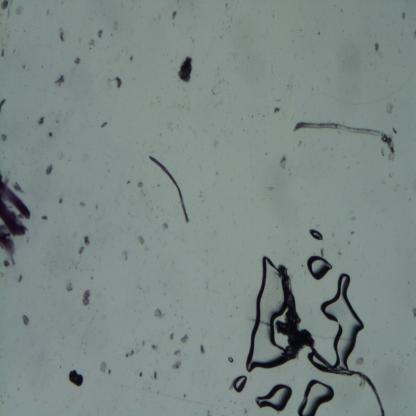Air bubble: (241, 256, 289, 368), (318, 271, 371, 369), (300, 378, 334, 414), (254, 382, 294, 411), (307, 255, 333, 279), (308, 226, 326, 244), (233, 374, 247, 392), (228, 356, 235, 362)
Background material: (176, 56, 193, 83), (68, 365, 86, 388), (209, 76, 226, 96), (82, 288, 93, 308), (13, 5, 29, 18), (20, 309, 31, 326), (52, 72, 65, 86), (64, 278, 76, 292), (57, 27, 66, 45), (406, 304, 416, 320), (136, 178, 144, 198), (0, 0, 12, 13), (172, 345, 184, 358), (44, 163, 54, 178), (86, 36, 96, 51), (280, 151, 288, 169), (171, 358, 183, 370), (136, 237, 147, 250), (114, 76, 124, 90), (196, 342, 206, 356), (154, 309, 166, 320), (384, 100, 394, 113), (180, 332, 190, 344), (169, 9, 178, 22), (37, 114, 46, 127), (128, 50, 136, 64), (97, 27, 104, 42), (56, 195, 65, 206), (125, 349, 136, 358), (0, 96, 7, 110), (150, 343, 160, 352), (78, 198, 87, 208), (100, 120, 110, 129), (0, 133, 10, 142), (77, 245, 86, 255), (17, 275, 25, 286), (100, 362, 108, 373), (83, 235, 91, 246), (151, 370, 159, 381), (357, 356, 364, 368), (272, 106, 281, 115), (74, 56, 82, 65), (40, 214, 48, 223), (374, 42, 381, 52), (393, 126, 400, 136), (169, 331, 175, 342), (390, 154, 397, 163), (401, 10, 407, 20), (124, 250, 129, 262), (411, 28, 416, 40), (138, 368, 144, 378), (380, 146, 385, 157), (49, 130, 54, 140), (0, 48, 5, 58), (223, 1, 229, 9), (125, 179, 132, 185)
Cellulose filter fibre: (315, 350, 385, 416), (292, 121, 403, 160), (278, 259, 315, 349)
Cotton: (148, 154, 190, 224)
Pen: (0, 176, 30, 262)
